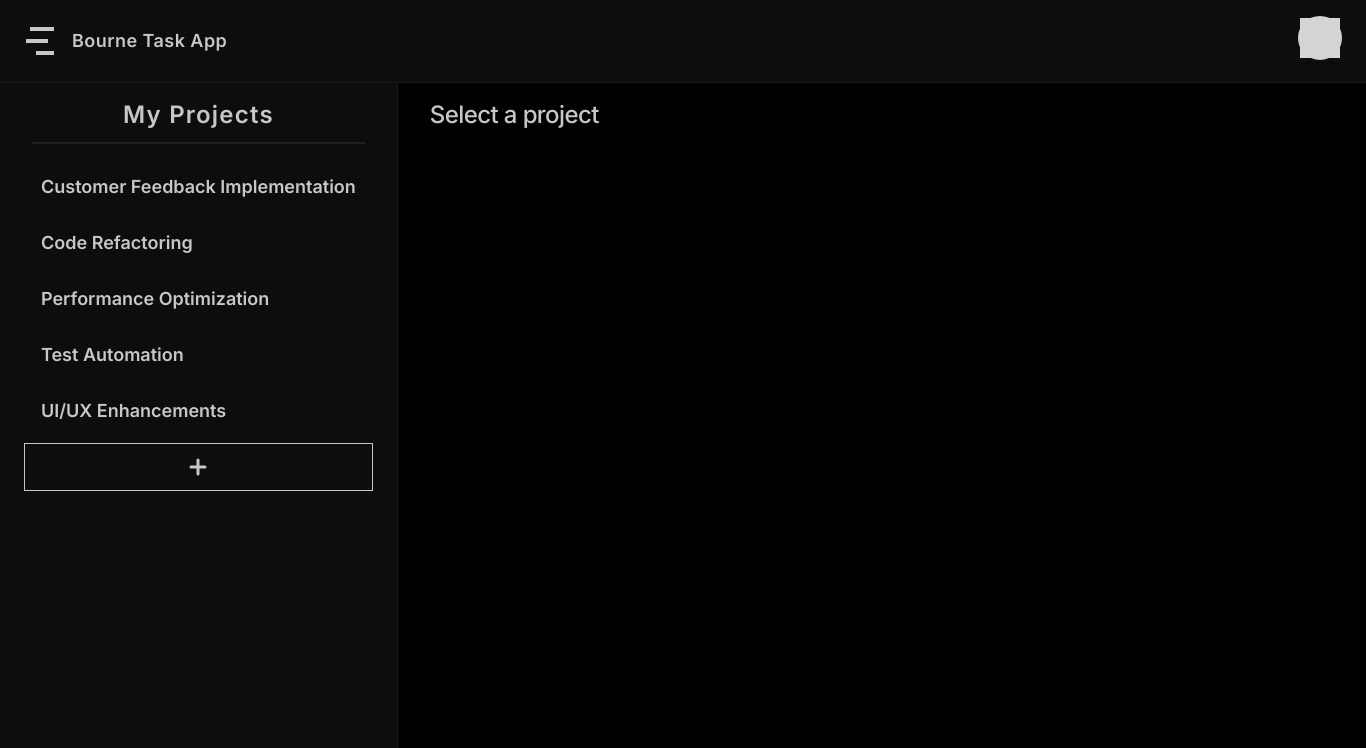
Scenario: App › should open a modal to confirm project deletion
The width and height of the screenshot is (1366, 748).
Note: Click on the first project title
Click the list item "Customer Feedback Implementation" at (198,187), box [24, 163, 373, 211]
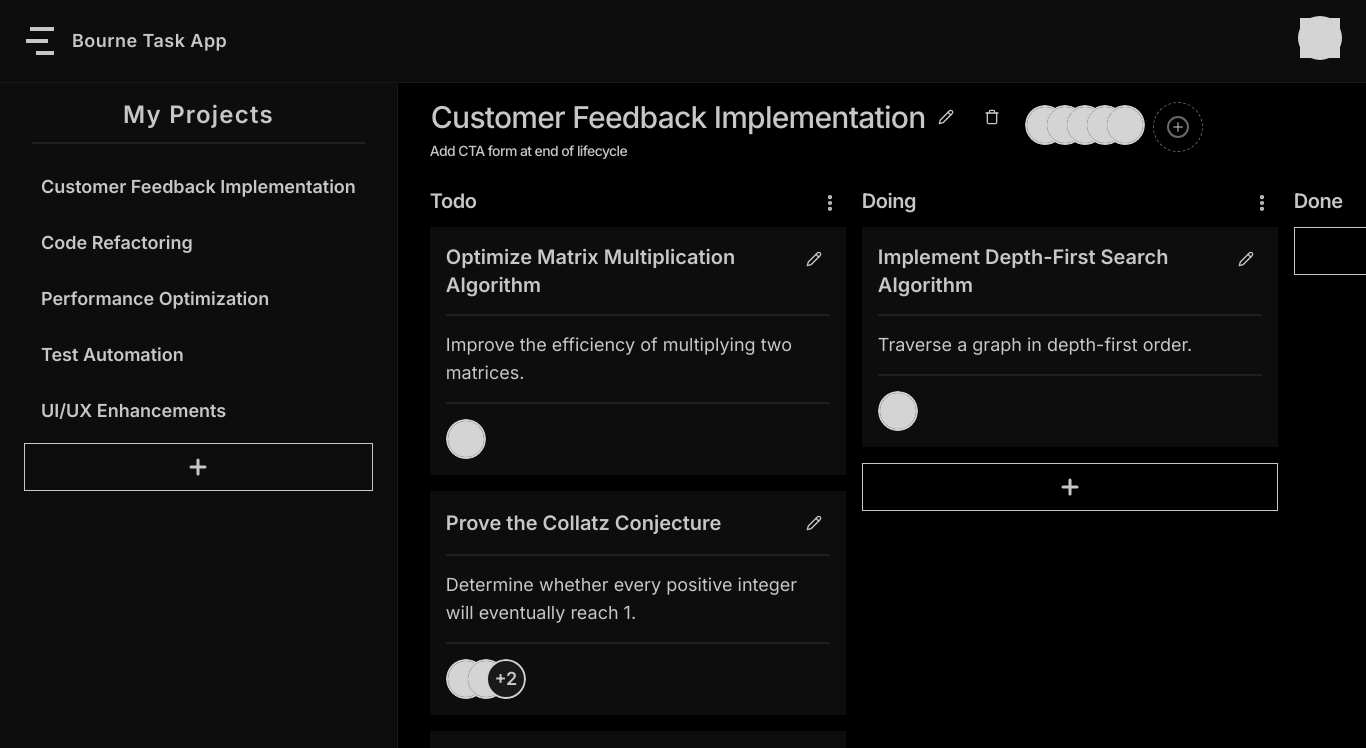
Click the button named "delete project" at (992,117), box [974, 93, 1008, 141]
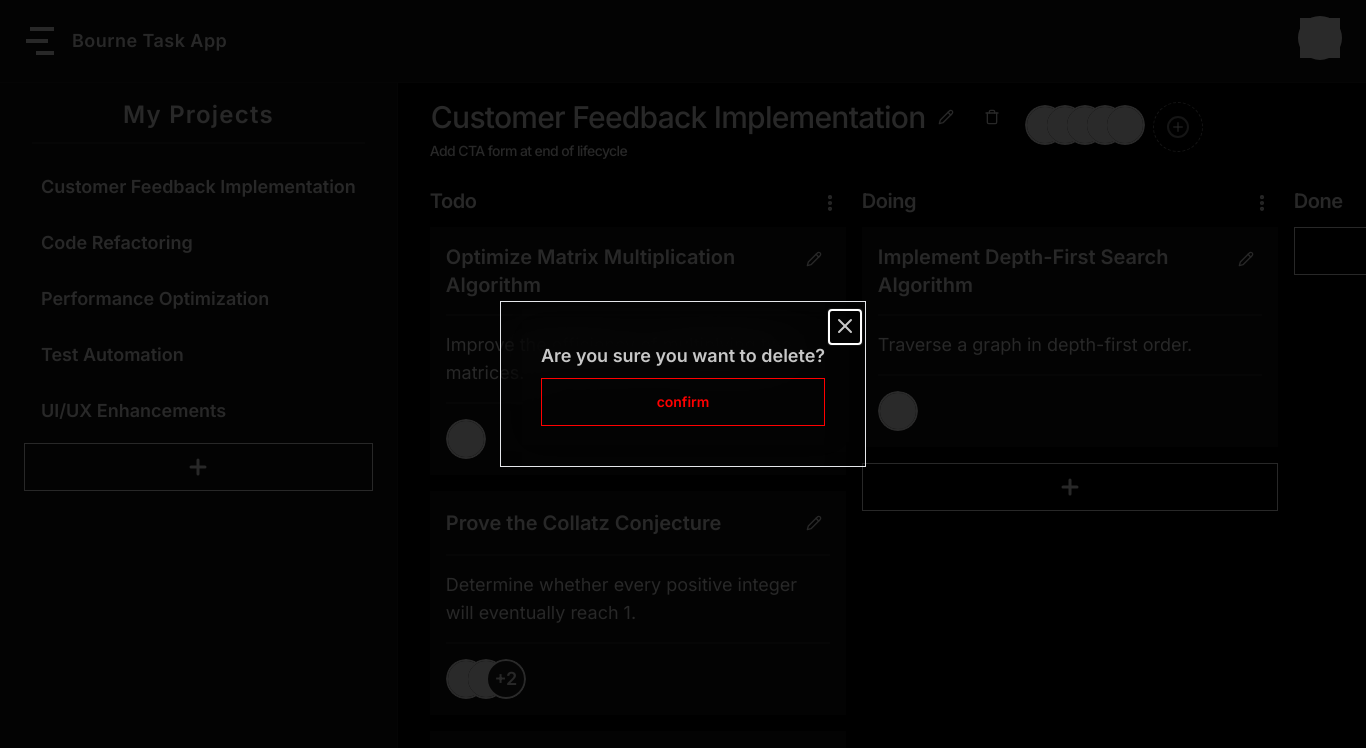
Check: the button with aria-label "confirm delete project" is shown
Click the button with aria-label "confirm delete project" at (683,402), box [541, 378, 825, 426]
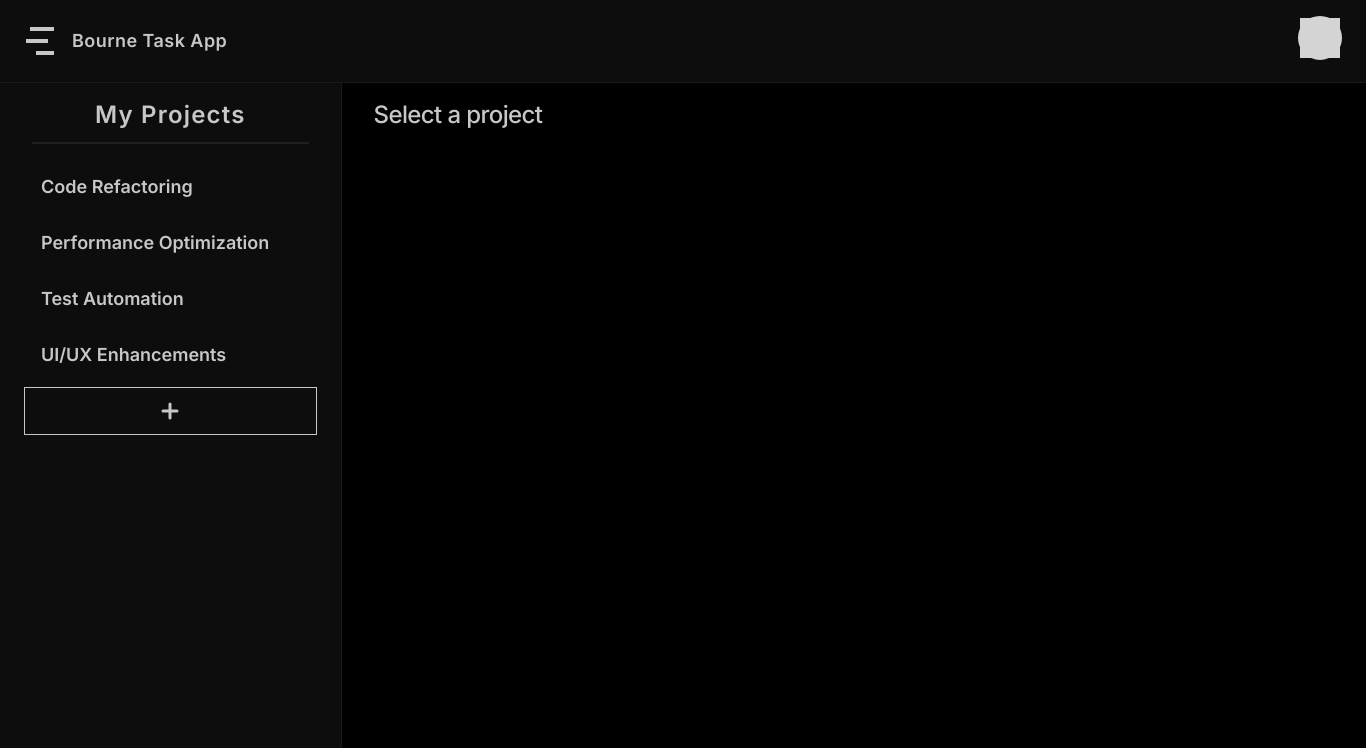
Check: the list item "Customer Feedback Implementation" is gone
